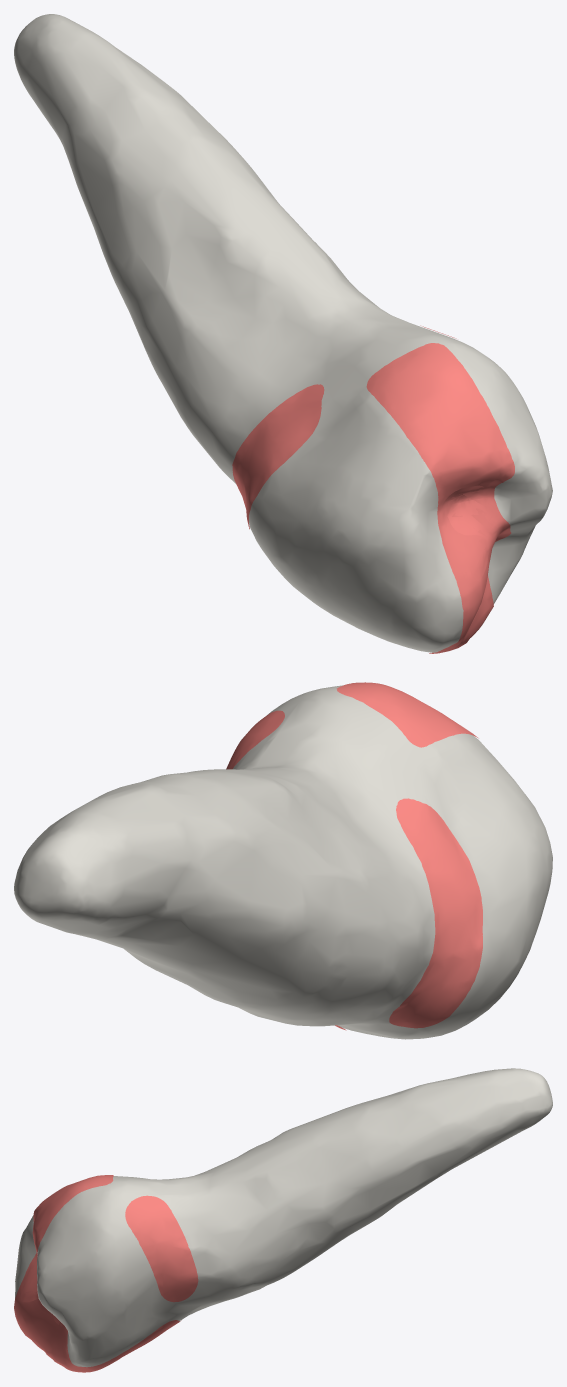
The model's file is tooth_45_FMA55695.glb.
The picture shows the model from 3 angles, top to bottom: view 1: azimuth 30°, elevation 25°; view 2: azimuth 150°, elevation 25°; view 3: azimuth 270°, elevation 25°; orthographic projection. The views are drawn at different scales.
Parts seen in each view (by area): view 1: tooth_45, class2_distal, class5_facial, class2_mesial, class1, class2_mesial_distal; view 2: tooth_45, class5_facial, class2_distal, class5_lingual; view 3: tooth_45, class5_lingual, class2_mesial, class2_distal.
Part boxes in pixels (<box>): tooth_45: <box>14,14,552,652</box>; class2_distal: <box>366,343,514,581</box>; class5_facial: <box>232,384,324,529</box>; class2_mesial: <box>429,485,510,653</box>; class1: <box>447,494,511,546</box>; class2_mesial_distal: <box>437,481,507,591</box>; tooth_45: <box>14,685,552,1039</box>; class5_facial: <box>389,798,482,1028</box>; class2_distal: <box>336,682,478,747</box>; class5_lingual: <box>226,710,284,769</box>; tooth_45: <box>15,1068,552,1367</box>; class5_lingual: <box>125,1195,198,1302</box>; class2_mesial: <box>14,1256,181,1372</box>; class2_distal: <box>20,1175,113,1302</box>.
Bounding box in the file's own units: 7.7 × 12.62 × 22.12.
